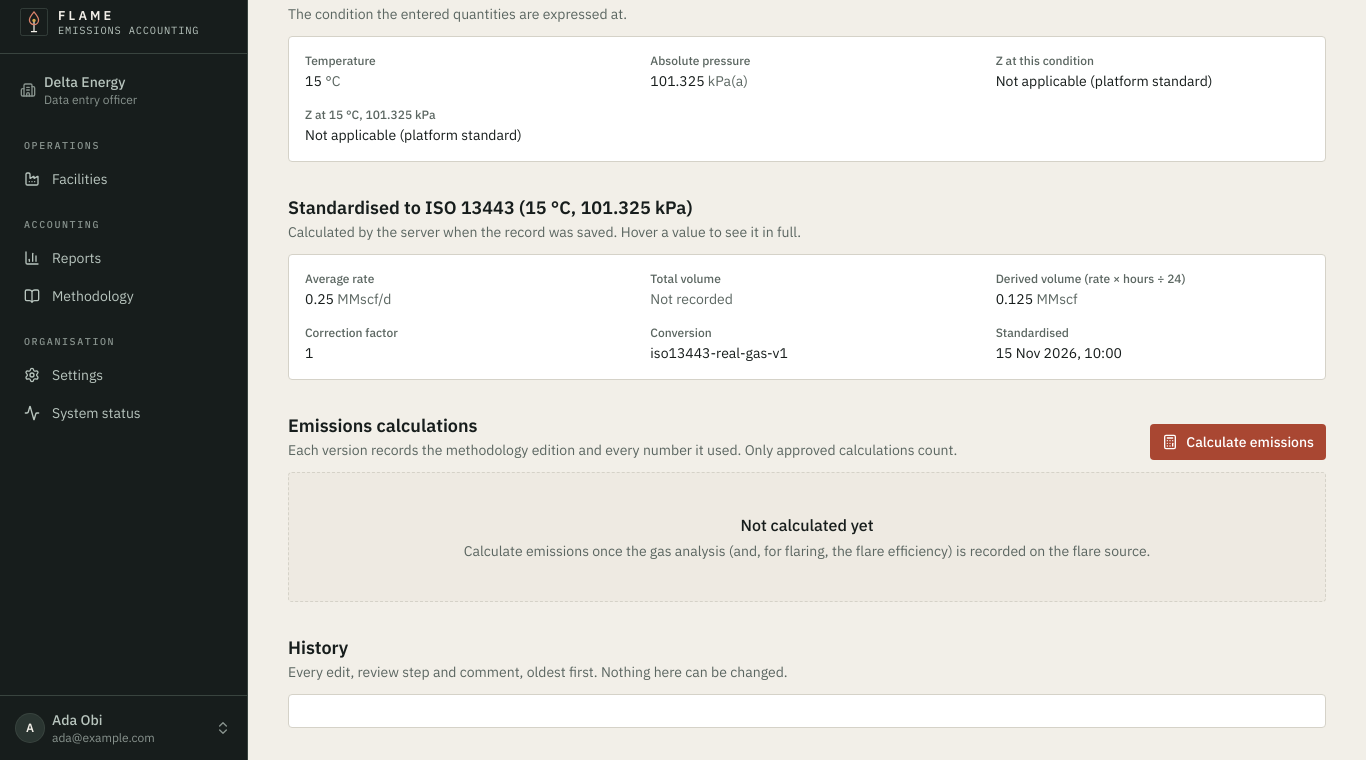
Test: calculating an approved record › explains what is missing when the calculation can’t run yet
(page scrolled)
Click the button "Calculate emissions" at (1238, 442), box top-left (1150, 424), bottom-right (1326, 460)
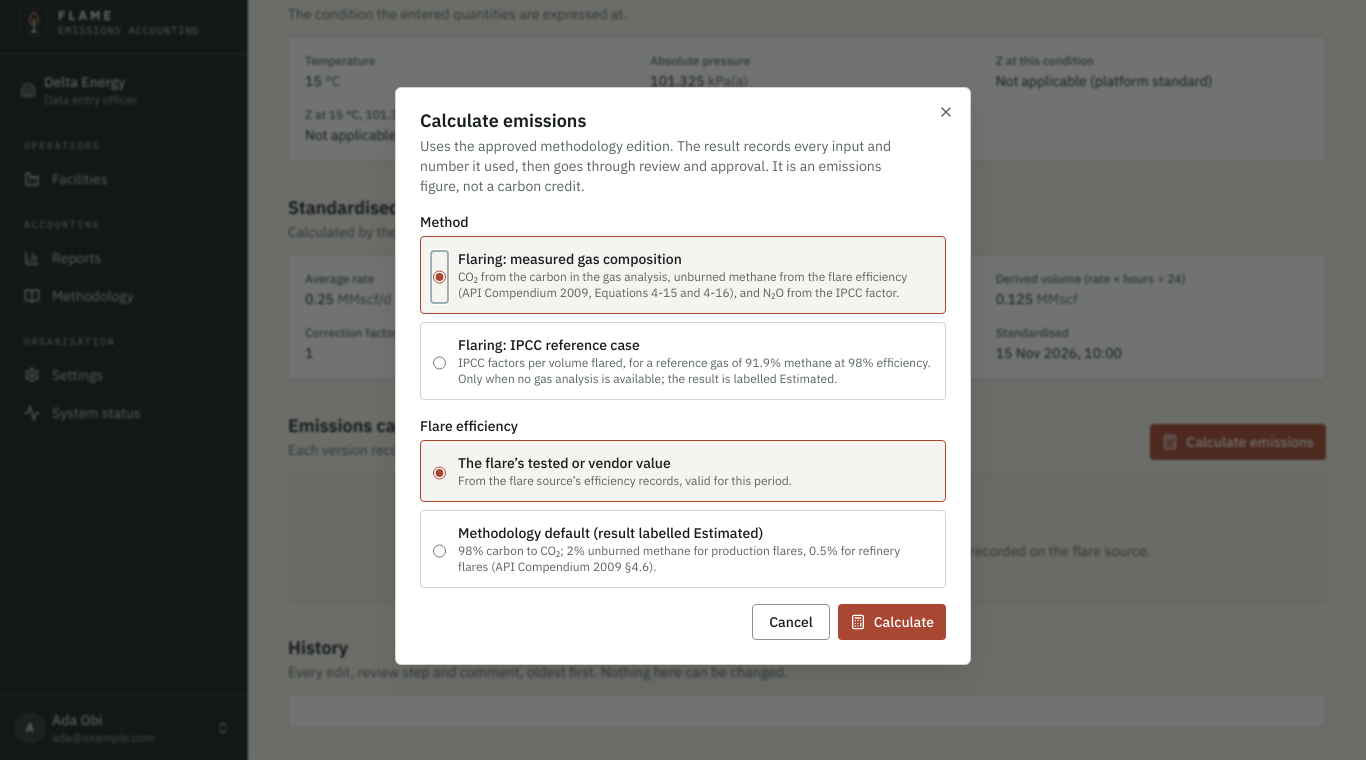
Click the button "Calculate" at (892, 622), box top-left (838, 604), bottom-right (946, 640)
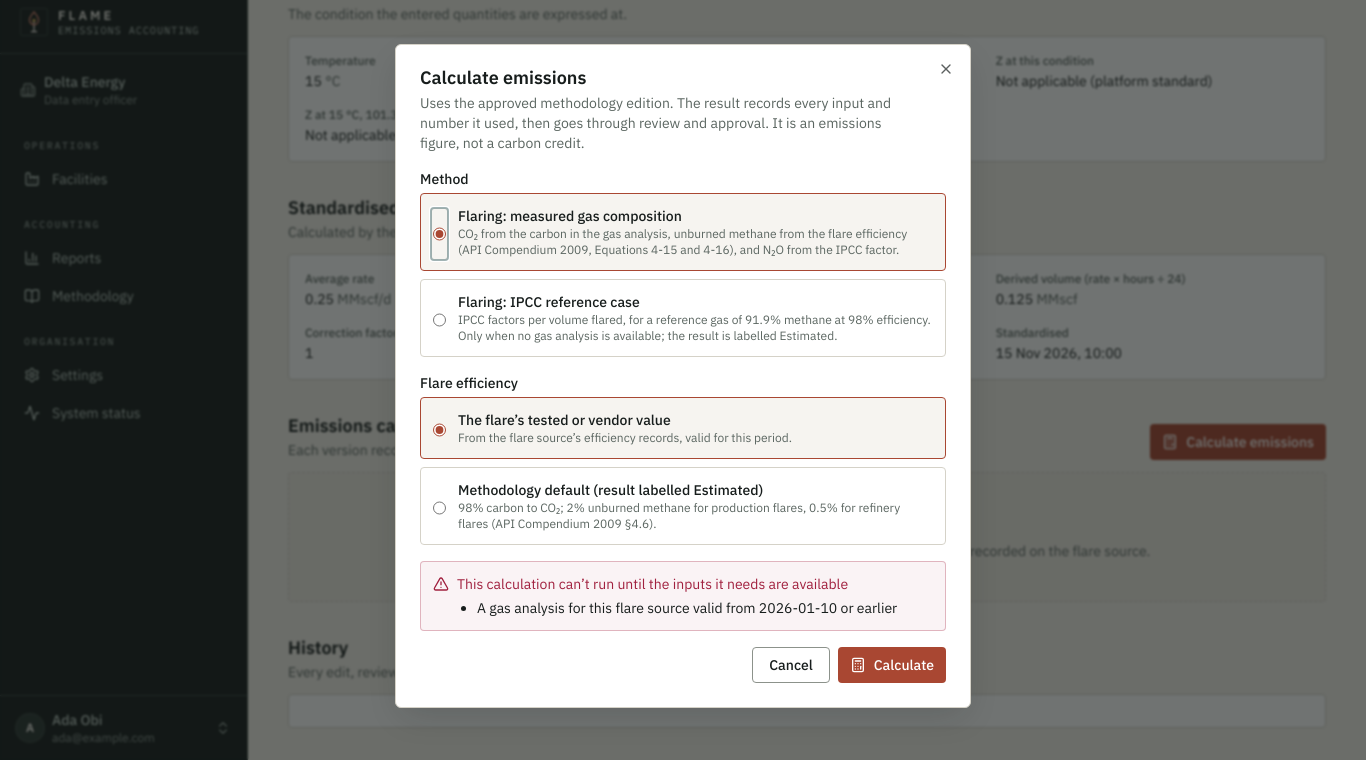
Expected: the list item "A gas analysis for this flare source" is shown, top-left (477, 599), bottom-right (897, 617)
